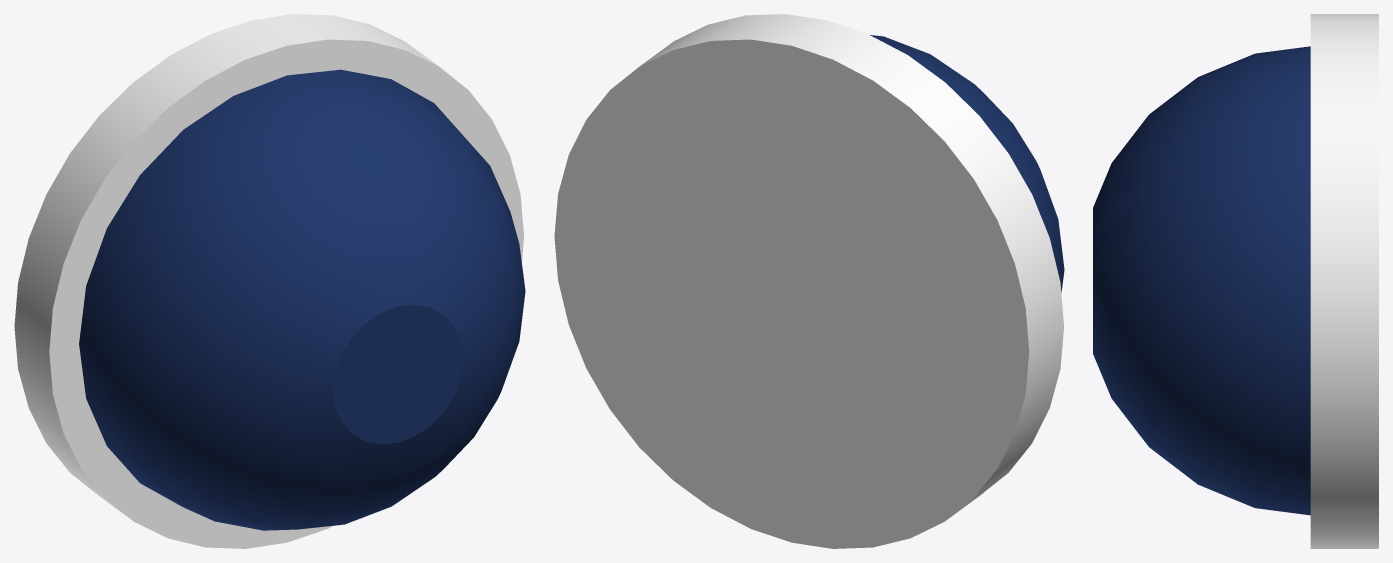
The model's file is mid360.glb.
3 views of the same model, side by side, from view 1: azimuth 30°, elevation 25°; view 2: azimuth 150°, elevation 25°; view 3: azimuth 270°, elevation 25° (orthographic). The views are drawn at different scales.
Parts seen in each view (by area): view 1: geo1; view 2: geo1; view 3: geo1.
Boxes of the visible parts, box(x1,y1,x2,y2) form: geo1: box(14, 14, 525, 548); geo1: box(554, 14, 1064, 548); geo1: box(1093, 14, 1378, 548).
Bounding box in the file's own units: 0.051 × 0.051 × 0.0271.
